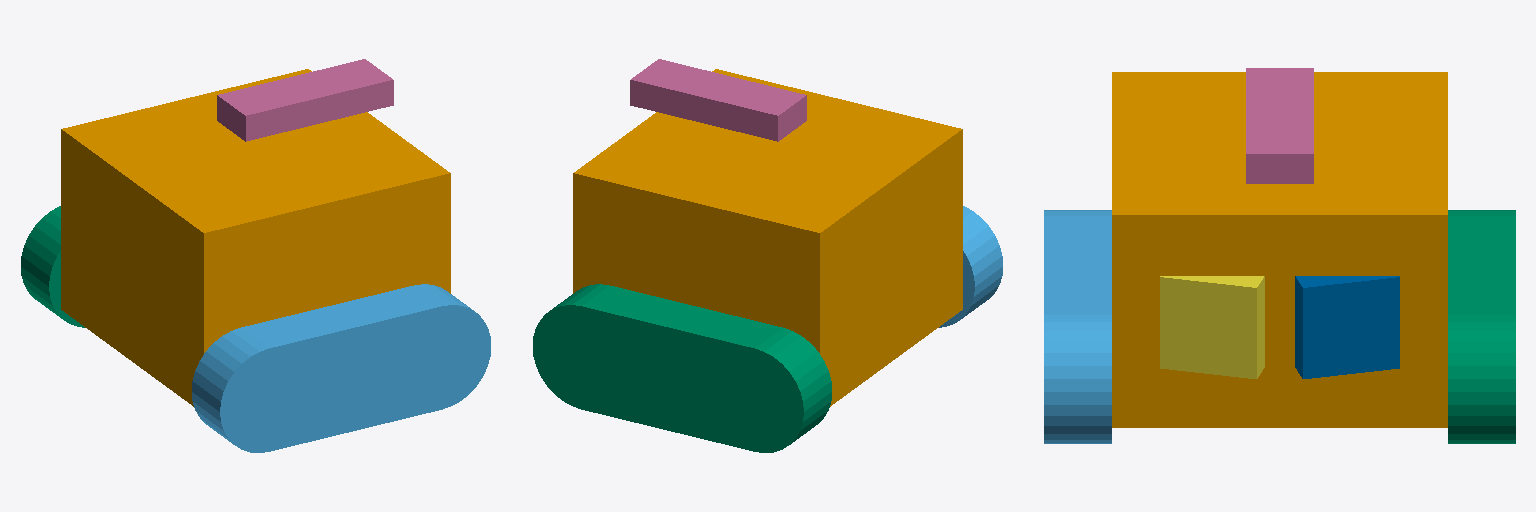
robot.urdf — [local-path]/OneDrive/Documents/GitHub/AI-Robots-Challenges/Robo:
<?xml version="1.0"?>
<robot name="[local-path]/OneDrive/Documents/GitHub/AI-Robots-Challenges/RobotFiles/BasicRobot.urdf" xmlns:xacro="http://ros.org/wiki/xacro">
  <link name="base_link">
    <visual>
      <geometry>
        <box size="0.5 0.5 0.35"/>
      </geometry>
    </visual>
    <collision>
      <geometry>
        <box size="0.5 0.5 0.35"/>
      </geometry>
    </collision>
  </link>
  <link name="track2">
    <visual>
      <origin xyz="0.175 0 0" rpy="1.5708 0 0"/>
      <geometry>
        <cylinder radius="0.1" length="0.1"/>
      </geometry>
    </visual>
    <collision>
      <origin xyz="0.175 0 0" rpy="1.5708 0 0"/>
      <geometry>
        <cylinder radius="0.1" length="0.1"/>
      </geometry>
    </collision>
    <visual>
      <origin xyz="-0.175 0 0" rpy="1.5708 0 0"/>
      <geometry>
        <cylinder radius="0.1" length="0.1"/>
      </geometry>
    </visual>
    <collision>
      <origin xyz="-0.175 0 0" rpy="1.5708 0 0"/>
      <geometry>
        <cylinder radius="0.1" length="0.1"/>
      </geometry>
    </collision>
    <visual>
      <geometry>
        <box size="0.35 0.1 0.2"/>
      </geometry>
    </visual>
    <collision>
      <geometry>
        <box size="0.35 0.1 0.2"/>
      </geometry>
    </collision>
  </link>
  <joint name="base_link_track2_joint" type="fixed">
    <parent link="base_link"/>
    <child link="track2"/>
    <origin xyz="0 -0.3 -0.125" rpy="0 0 0"/>
  </joint>
  <link name="track1">
    <visual>
      <origin xyz="0.175 0 0" rpy="1.5708 0 0"/>
      <geometry>
        <cylinder radius="0.1" length="0.1"/>
      </geometry>
    </visual>
    <collision>
      <origin xyz="0.175 0 0" rpy="1.5708 0 0"/>
      <geometry>
        <cylinder radius="0.1" length="0.1"/>
      </geometry>
    </collision>
    <visual>
      <origin xyz="-0.175 0 0" rpy="1.5708 0 0"/>
      <geometry>
        <cylinder radius="0.1" length="0.1"/>
      </geometry>
    </visual>
    <collision>
      <origin xyz="-0.175 0 0" rpy="1.5708 0 0"/>
      <geometry>
        <cylinder radius="0.1" length="0.1"/>
      </geometry>
    </collision>
    <visual>
      <geometry>
        <box size="0.35 0.1 0.2"/>
      </geometry>
    </visual>
    <collision>
      <geometry>
        <box size="0.35 0.1 0.2"/>
      </geometry>
    </collision>
  </link>
  <joint name="base_link_track1_joint" type="fixed">
    <parent link="base_link"/>
    <child link="track1"/>
    <origin xyz="0 0.3 -0.125" rpy="0 0 0"/>
  </joint>
  <link name="right sensor">
    <visual>
      <geometry>
        <box size="0.05 0.15 0.15"/>
      </geometry>
    </visual>
    <collision>
      <geometry>
        <box size="0.05 0.15 0.15"/>
      </geometry>
    </collision>
  </link>
  <joint name="base_link_right sensor_joint" type="fixed">
    <parent link="base_link"/>
    <child link="right sensor"/>
    <origin xyz="0.25 -0.1 0" rpy="0 0 -0.261799"/>
  </joint>
  <link name="left sensor">
    <visual>
      <geometry>
        <box size="0.05 0.15 0.15"/>
      </geometry>
    </visual>
    <collision>
      <geometry>
        <box size="0.05 0.15 0.15"/>
      </geometry>
    </collision>
  </link>
  <joint name="base_link_left sensor_joint" type="fixed">
    <parent link="base_link"/>
    <child link="left sensor"/>
    <origin xyz="0.25 0.1 0" rpy="0 0 0.261799"/>
  </joint>
  <link name="Camera Joint">
  </link>
  <joint name="base_link_Camera Joint_joint" type="fixed">
    <parent link="base_link"/>
    <child link="Camera Joint"/>
    <origin xyz="0 0 0.2" rpy="0 0 0"/>
  </joint>
  <joint name="camera motor" type="revolute">
    <parent link="Camera Joint"/>
    <child link="solid"/>
    <axis xyz="-0.000013 1 -0.000029"/>
    <limit effort="10" lower="0" upper="1.75" velocity="10"/>
    <origin xyz="0 0 0.05" rpy="-0.016635 1.57 -0.016664"/>
  </joint>
  <link name="solid">
    <visual>
      <origin xyz="0.000128 -0.000003 0.099987" rpy="0 0 0"/>
      <geometry>
        <box size="0.05 0.1 0.3"/>
      </geometry>
    </visual>
    <collision>
      <origin xyz="0.000128 -0.000003 0.099987" rpy="0 0 0"/>
      <geometry>
        <box size="0.05 0.1 0.3"/>
      </geometry>
    </collision>
  </link>
  <link name="camera">
  </link>
  <joint name="solid_camera_joint" type="fixed">
    <parent link="solid"/>
    <child link="camera"/>
    <origin xyz="0.000127 -0.000003 0.259987" rpy="-1.570796 -1.570795 -1.570796"/>
  </joint>
</robot>

--- Facts derived from the render (not from the file) ---
Views: 3 orthographic renders of the robot side by side, from view 1: azimuth 30°, elevation 25°; view 2: azimuth 150°, elevation 25°; view 3: azimuth 270°, elevation 25°.
Robot: [local-path]/OneDrive/Documents/GitHub/AI-Robots-Challenges/Robo — 8 links, 7 joints (1 revolute, 6 fixed); root link base_link; default pose: all joints at 0.
Visible links, largest first — view 1: base_link, track2, solid, track1; view 2: base_link, track1, solid, track2; view 3: base_link, track2, track1, right sensor, left sensor, solid.
Link boxes in pixels (x1,y1,x2,y2): base_link: (61, 69, 450, 406); track2: (192, 284, 490, 452); solid: (217, 59, 393, 141); track1: (21, 206, 84, 327); base_link: (573, 69, 962, 406); track1: (533, 284, 831, 452); solid: (630, 59, 806, 141); track2: (939, 206, 1002, 327); base_link: (1112, 72, 1447, 427); track2: (1044, 210, 1111, 443); track1: (1448, 210, 1515, 443); right sensor: (1160, 276, 1264, 378); left sensor: (1295, 276, 1399, 378); solid: (1246, 68, 1313, 183).
Bounding box of the posed robot: 0.5686 × 0.7 × 0.5001 m (x, y, z).
Geometry: primitives only (box / cylinder / sphere), no mesh files.
